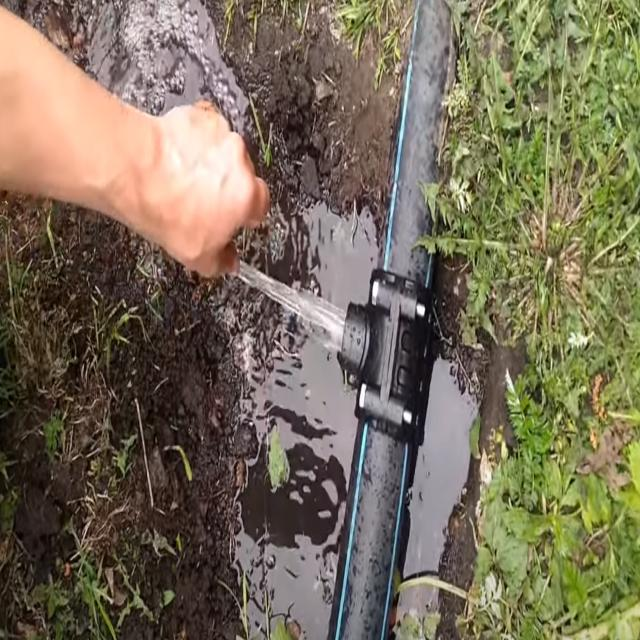leak: (238, 259, 346, 350)
